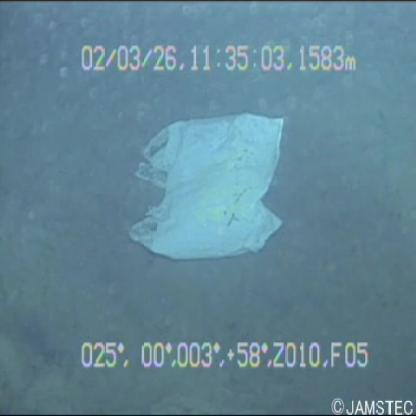Rác: (126, 104, 298, 266)
